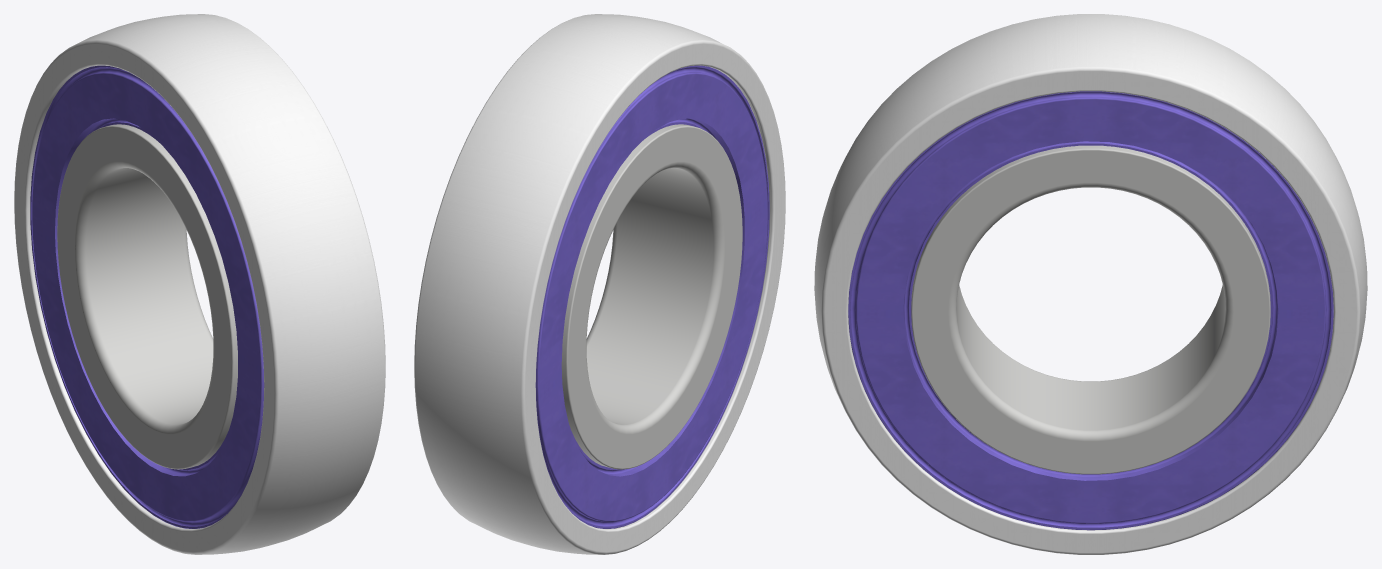
3 views of the same model, side by side, from view 1: azimuth 30°, elevation 25°; view 2: azimuth 150°, elevation 25°; view 3: azimuth 270°, elevation 25° (orthographic). The views are drawn at different scales.
Visible parts, largest first — view 1: texture, polished platinum, texture-5; view 2: texture, polished platinum, texture-5; view 3: texture-5, texture, polished platinum.
Boxes of the visible parts, left/top/right/bottom form: texture: left=14, top=14, right=385, bottom=554; polished platinum: left=57, top=124, right=237, bottom=469; texture-5: left=30, top=65, right=264, bottom=528; texture: left=414, top=14, right=785, bottom=554; polished platinum: left=561, top=124, right=742, bottom=469; texture-5: left=535, top=65, right=769, bottom=528; texture-5: left=848, top=91, right=1333, bottom=530; texture: left=814, top=14, right=1367, bottom=554; polished platinum: left=911, top=145, right=1270, bottom=474.
Size of the model in its own units: 0.017 by 0.072 by 0.072.
7 materials, 6 textured.
